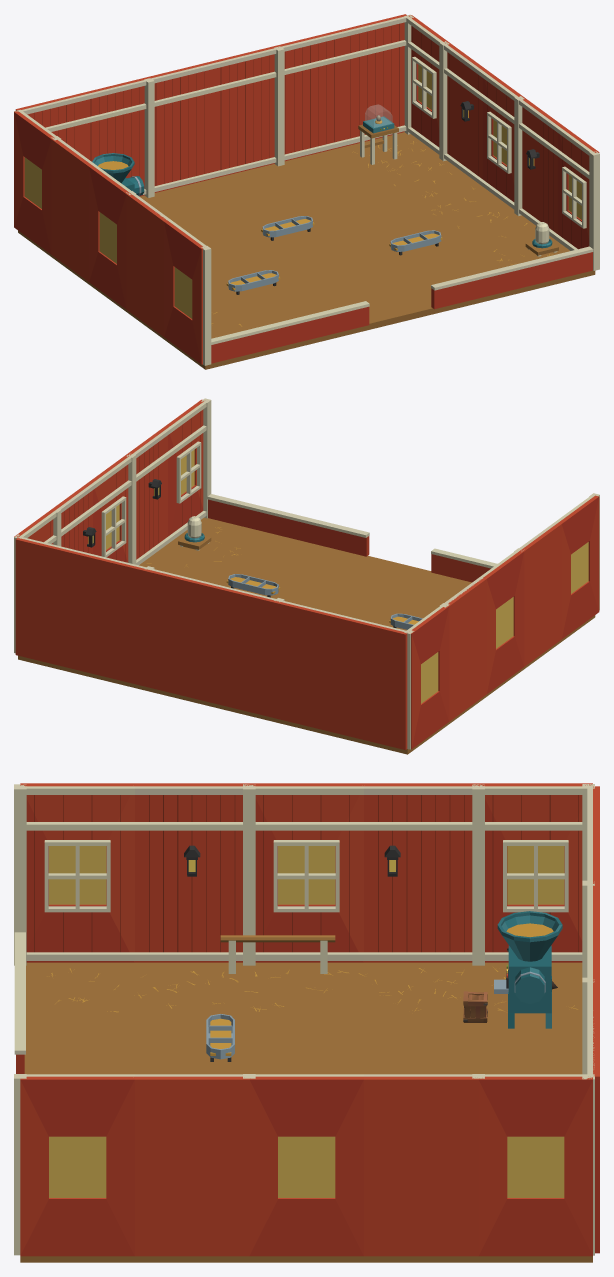
The model's file is CoopInterior_Lv2.fbx.
The picture shows the model from 3 angles, top to bottom: view 1: azimuth 30°, elevation 25°; view 2: azimuth 150°, elevation 25°; view 3: azimuth 270°, elevation 25°; orthographic projection. The views are drawn at different scales.
Visible parts, largest first — view 1: Floor.002, FrontCutaway_2mDoor.002, N01_Wall_2m.023, N01_Wall_2m.022, N01_Wall_2m.024, N01_Wall_2m.025, N01_WindowWall_2m.011, N01_Wall_2m.021, N01_Wall_2m.026, N01_WindowWall_2m.012, N01_Wall_2m.027, N01_WindowWall_2m.013 (+19 smaller); view 2: Floor.002, N01_Wall_2m.020, N01_Wall_2m.025, N01_Wall_2m.023, N01_Wall_2m.024, N01_Wall_2m.021, N01_Wall_2m.022, FrontCutaway_2mDoor.002, N01_WindowWall_2m.012, N01_WindowWall_2m.011, N01_WindowWall_2m.013, N01_Wall_2m.026 (+10 smaller); view 3: Floor.002, N01_Wall_2m.029, N01_WindowWall_2m.014, N01_WindowWall_2m.015, N01_Wall_2m.028, N01_WindowWall_2m.016, N01_WindowWall_2m.011, N01_Wall_2m.027, N01_WindowWall_2m.012, N01_Wall_2m.026, N01_WindowWall_2m.013, C02_FeedMaker_Large.002 (+15 smaller).
Part boxes in pixels (bbox=[...]): Floor.002: bbox=[18, 132, 595, 369]; FrontCutaway_2mDoor.002: bbox=[211, 246, 593, 363]; N01_Wall_2m.023: bbox=[211, 46, 276, 178]; N01_Wall_2m.022: bbox=[146, 61, 214, 192]; N01_Wall_2m.024: bbox=[276, 30, 344, 161]; N01_Wall_2m.025: bbox=[341, 14, 406, 146]; N01_WindowWall_2m.011: bbox=[164, 220, 206, 364]; N01_Wall_2m.021: bbox=[81, 77, 146, 196]; N01_Wall_2m.026: bbox=[126, 193, 170, 336]; N01_WindowWall_2m.012: bbox=[89, 165, 130, 309]; N01_Wall_2m.027: bbox=[51, 139, 95, 281]; N01_WindowWall_2m.013: bbox=[14, 111, 55, 254]; Floor.002: bbox=[18, 518, 595, 754]; N01_Wall_2m.020: bbox=[340, 615, 407, 749]; N01_Wall_2m.025: bbox=[15, 537, 84, 670]; N01_Wall_2m.023: bbox=[145, 569, 213, 702]; N01_Wall_2m.024: bbox=[80, 552, 147, 686]; N01_Wall_2m.021: bbox=[275, 600, 343, 734]; N01_Wall_2m.022: bbox=[210, 584, 276, 718]; FrontCutaway_2mDoor.002: bbox=[207, 494, 497, 582]; N01_WindowWall_2m.012: bbox=[480, 550, 524, 693]; N01_WindowWall_2m.011: bbox=[555, 495, 599, 639]; N01_WindowWall_2m.013: bbox=[408, 606, 449, 749]; N01_Wall_2m.026: bbox=[519, 522, 561, 666]; Floor.002: bbox=[20, 962, 592, 1262]; N01_Wall_2m.029: bbox=[364, 1074, 478, 1256]; N01_WindowWall_2m.014: bbox=[20, 1074, 134, 1256]; N01_WindowWall_2m.015: bbox=[249, 1074, 363, 1256]; N01_Wall_2m.028: bbox=[135, 1074, 249, 1256]; N01_WindowWall_2m.016: bbox=[478, 1074, 592, 1256]; N01_WindowWall_2m.011: bbox=[20, 783, 134, 962]; N01_Wall_2m.027: bbox=[364, 783, 478, 962]; N01_WindowWall_2m.012: bbox=[249, 783, 363, 962]; N01_Wall_2m.026: bbox=[135, 783, 249, 962]; N01_WindowWall_2m.013: bbox=[478, 783, 592, 962]; C02_FeedMaker_Large.002: bbox=[494, 911, 562, 1028].
Size of the model in its own units: 12.24 by 3.58 by 10.23.
